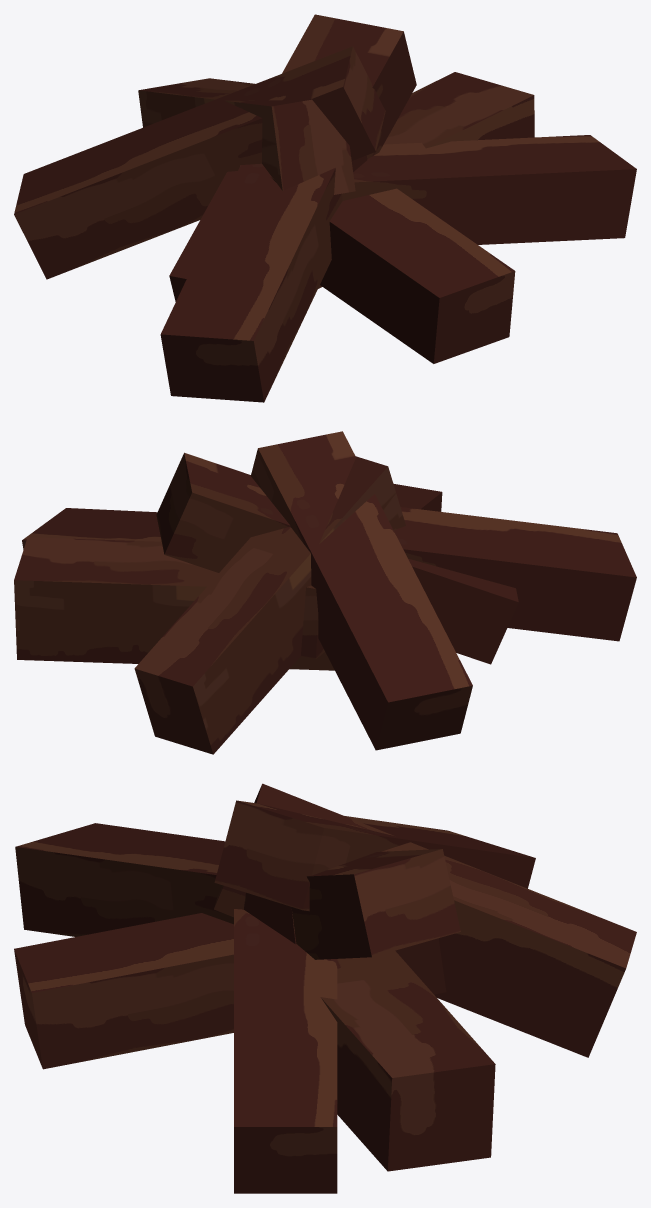
The model's file is SM_PROP_firepit_woodpile.fbx.
3 renders of one model, top to bottom at view 1: azimuth 30°, elevation 25°; view 2: azimuth 150°, elevation 25°; view 3: azimuth 270°, elevation 25°, orthographic. The views are drawn at different scales.
Parts seen in each view (by area): view 1: SM_PROP_firepit_woodpile; view 2: SM_PROP_firepit_woodpile; view 3: SM_PROP_firepit_woodpile.
Part boxes in pixels (<box>): SM_PROP_firepit_woodpile: <box>14,14,636,402</box>; SM_PROP_firepit_woodpile: <box>14,431,636,754</box>; SM_PROP_firepit_woodpile: <box>14,783,636,1193</box>.
Bounding box in the file's own units: 73.21 × 28.43 × 66.38.
